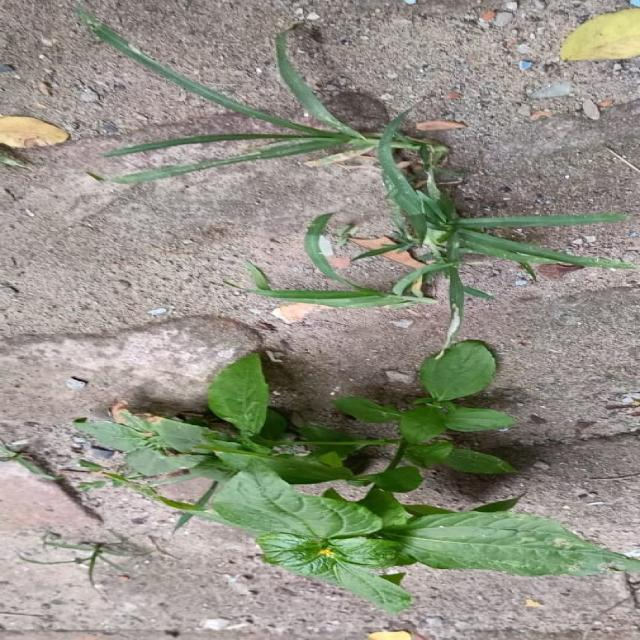weed: (75, 8, 639, 613)
